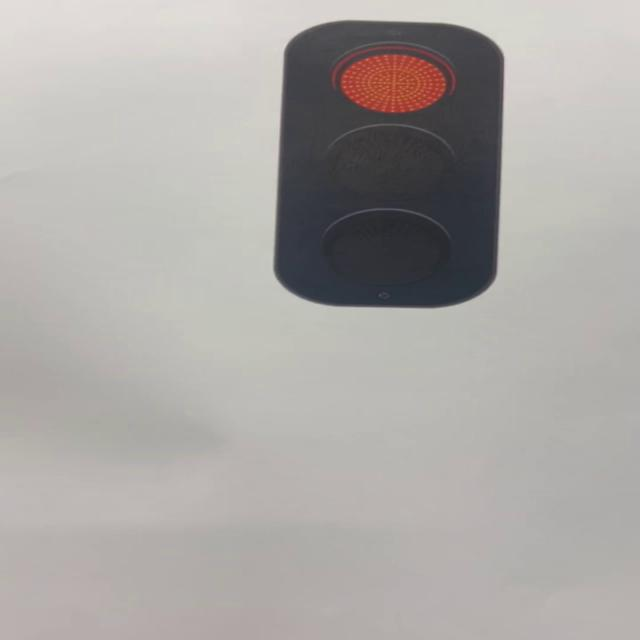red: (275, 19, 504, 307)
